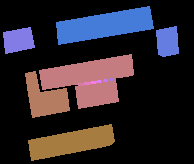parkingspot: (56, 6, 153, 44), (39, 54, 133, 89), (28, 124, 114, 160), (75, 79, 118, 108), (28, 88, 69, 117), (3, 27, 34, 53), (156, 26, 178, 56), (25, 71, 39, 94)
